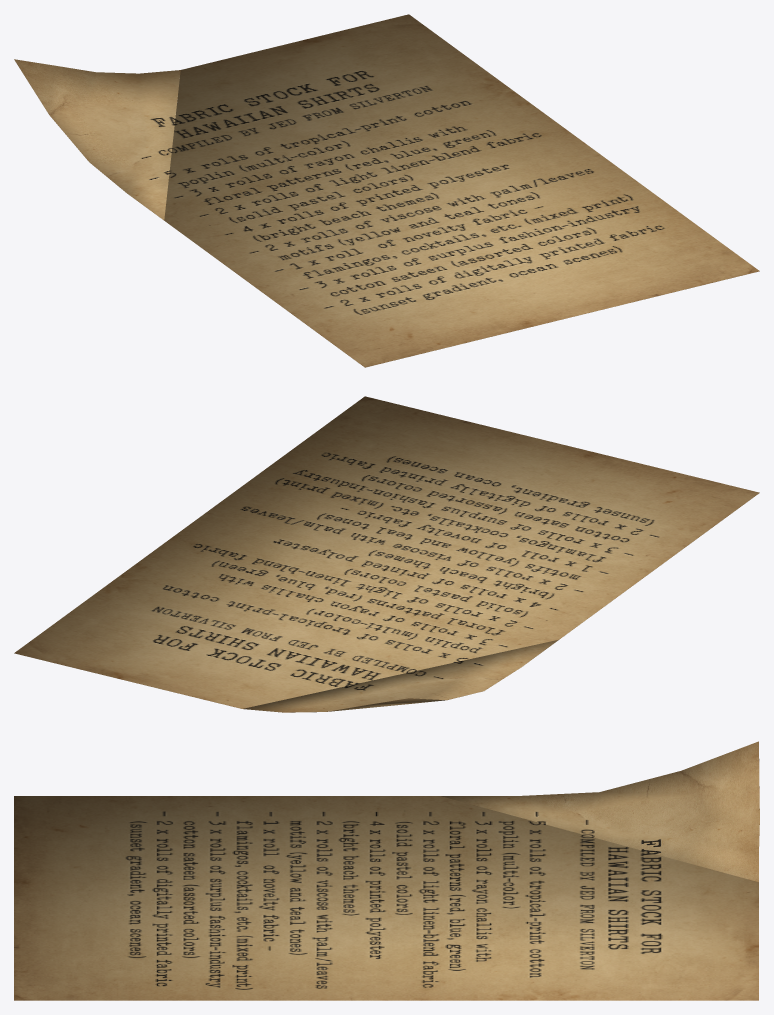
Rendered from supply_list.fbx.
3 views of the same model, one above another, from view 1: azimuth 30°, elevation 25°; view 2: azimuth 150°, elevation 25°; view 3: azimuth 270°, elevation 25° (orthographic). The views are drawn at different scales.
Visible parts, largest first — view 1: 02_3; view 2: 02_3; view 3: 02_3.
Part boxes in pixels (box(x1,y1,x2,y2)): 02_3: box(14, 14, 759, 367); 02_3: box(14, 396, 759, 712); 02_3: box(14, 741, 759, 1000).
Size of the model in its own units: 65.22 by 8.11 by 100.
